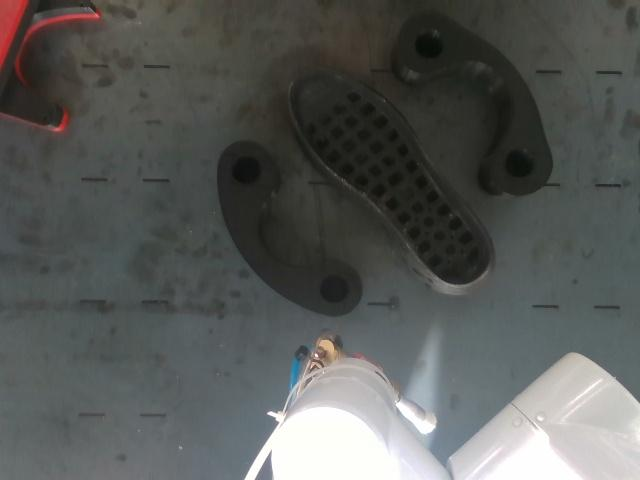shoes: (290, 67, 491, 285)
